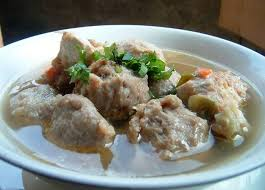bakso: (33, 33, 265, 178)
